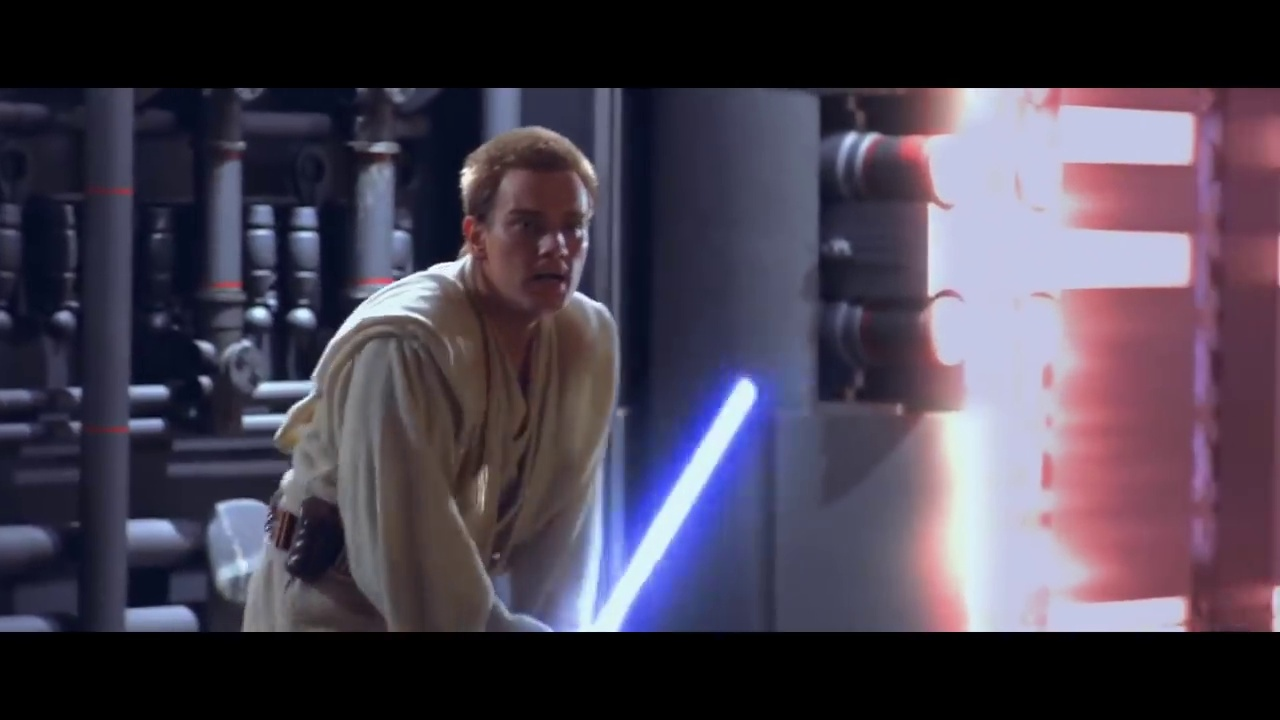lightsaber: (590, 367, 765, 630)
